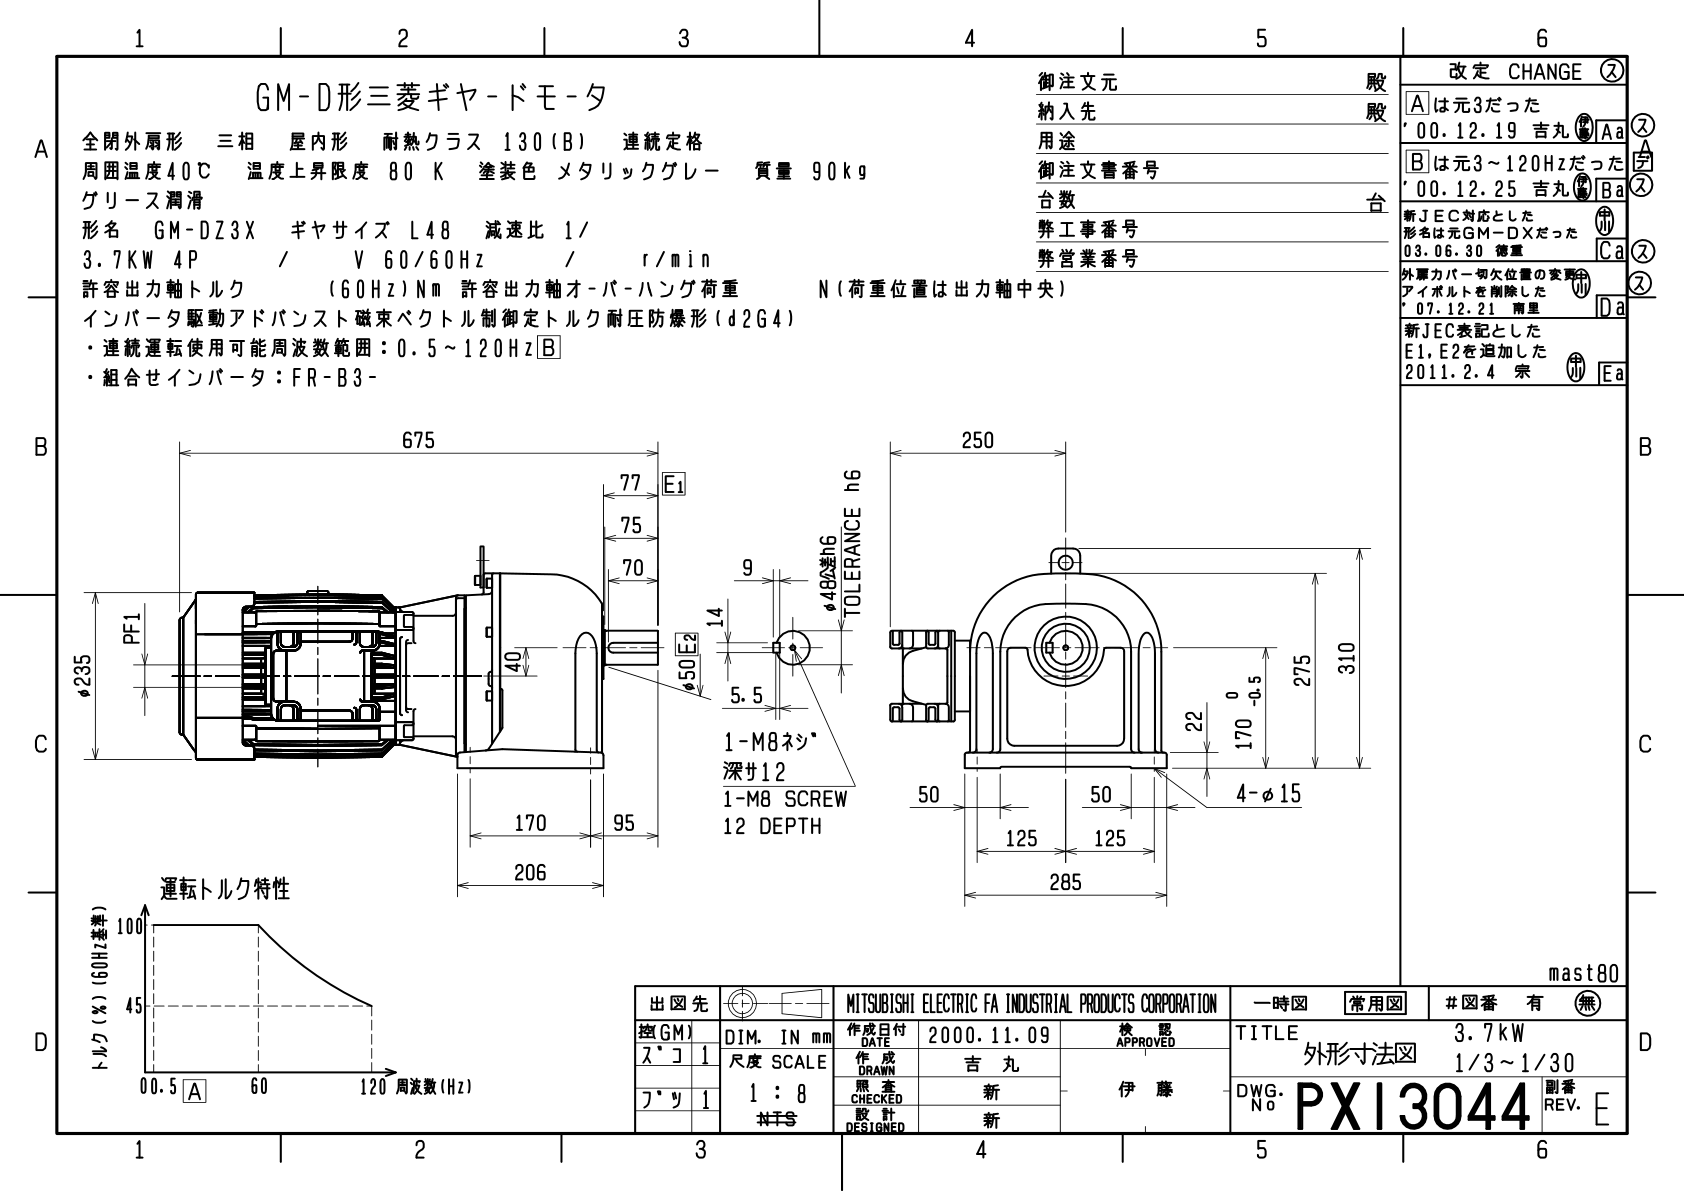GM_D_制御屋内_三相_脚: (67, 416, 1386, 962)
